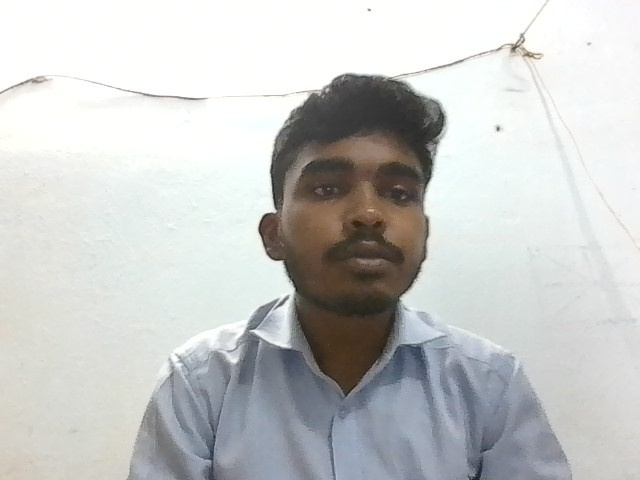real: (262, 61, 451, 329)
